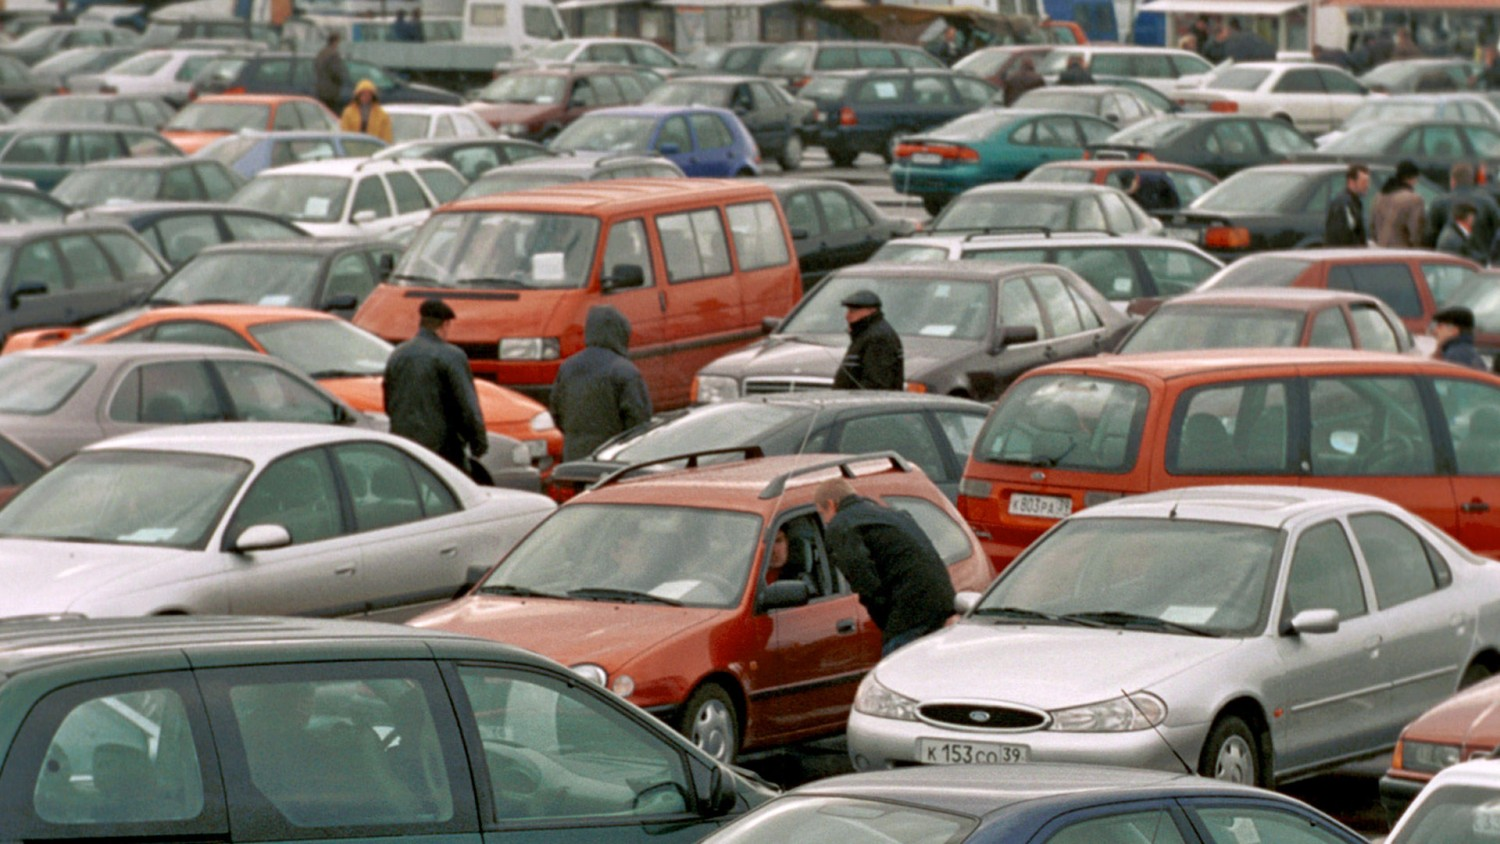Car: (847, 486, 1500, 787), (402, 445, 993, 763), (0, 617, 786, 844), (954, 349, 1500, 576), (0, 423, 554, 622), (353, 175, 806, 410), (0, 304, 565, 488), (0, 343, 541, 497), (689, 259, 1141, 406), (703, 764, 1370, 844), (548, 390, 988, 504), (868, 227, 1228, 319), (1128, 248, 1485, 335), (1148, 162, 1446, 265), (891, 108, 1120, 213), (138, 234, 410, 320), (1113, 289, 1439, 359), (229, 157, 470, 245), (0, 221, 169, 343), (744, 178, 921, 293), (795, 68, 1002, 164), (340, 0, 569, 86), (1283, 119, 1500, 207), (189, 50, 462, 120), (1378, 675, 1500, 826), (636, 74, 821, 171), (1171, 62, 1394, 140), (63, 203, 316, 270), (459, 62, 667, 143), (544, 105, 761, 177), (1084, 111, 1314, 179), (0, 123, 189, 196), (929, 183, 1166, 238), (451, 151, 688, 201), (155, 94, 341, 156), (67, 48, 239, 111), (756, 41, 950, 97), (1020, 159, 1220, 211), (191, 130, 390, 181), (1383, 756, 1500, 844), (50, 158, 248, 208), (1036, 44, 1218, 98), (373, 138, 562, 183), (981, 73, 1187, 112), (493, 38, 681, 78), (1010, 83, 1165, 131), (1434, 269, 1500, 376), (29, 45, 155, 99), (0, 23, 147, 68), (8, 93, 177, 131), (379, 102, 509, 144), (142, 11, 278, 52), (950, 45, 1063, 89), (1372, 93, 1500, 131), (1357, 59, 1488, 95), (667, 43, 783, 80), (914, 18, 992, 68), (0, 176, 80, 224), (0, 432, 50, 507), (1311, 99, 1380, 148), (0, 56, 42, 115), (1000, 20, 1089, 45), (76, 10, 147, 37), (0, 15, 54, 47), (155, 38, 268, 53), (3, 0, 76, 20), (0, 102, 14, 126)
